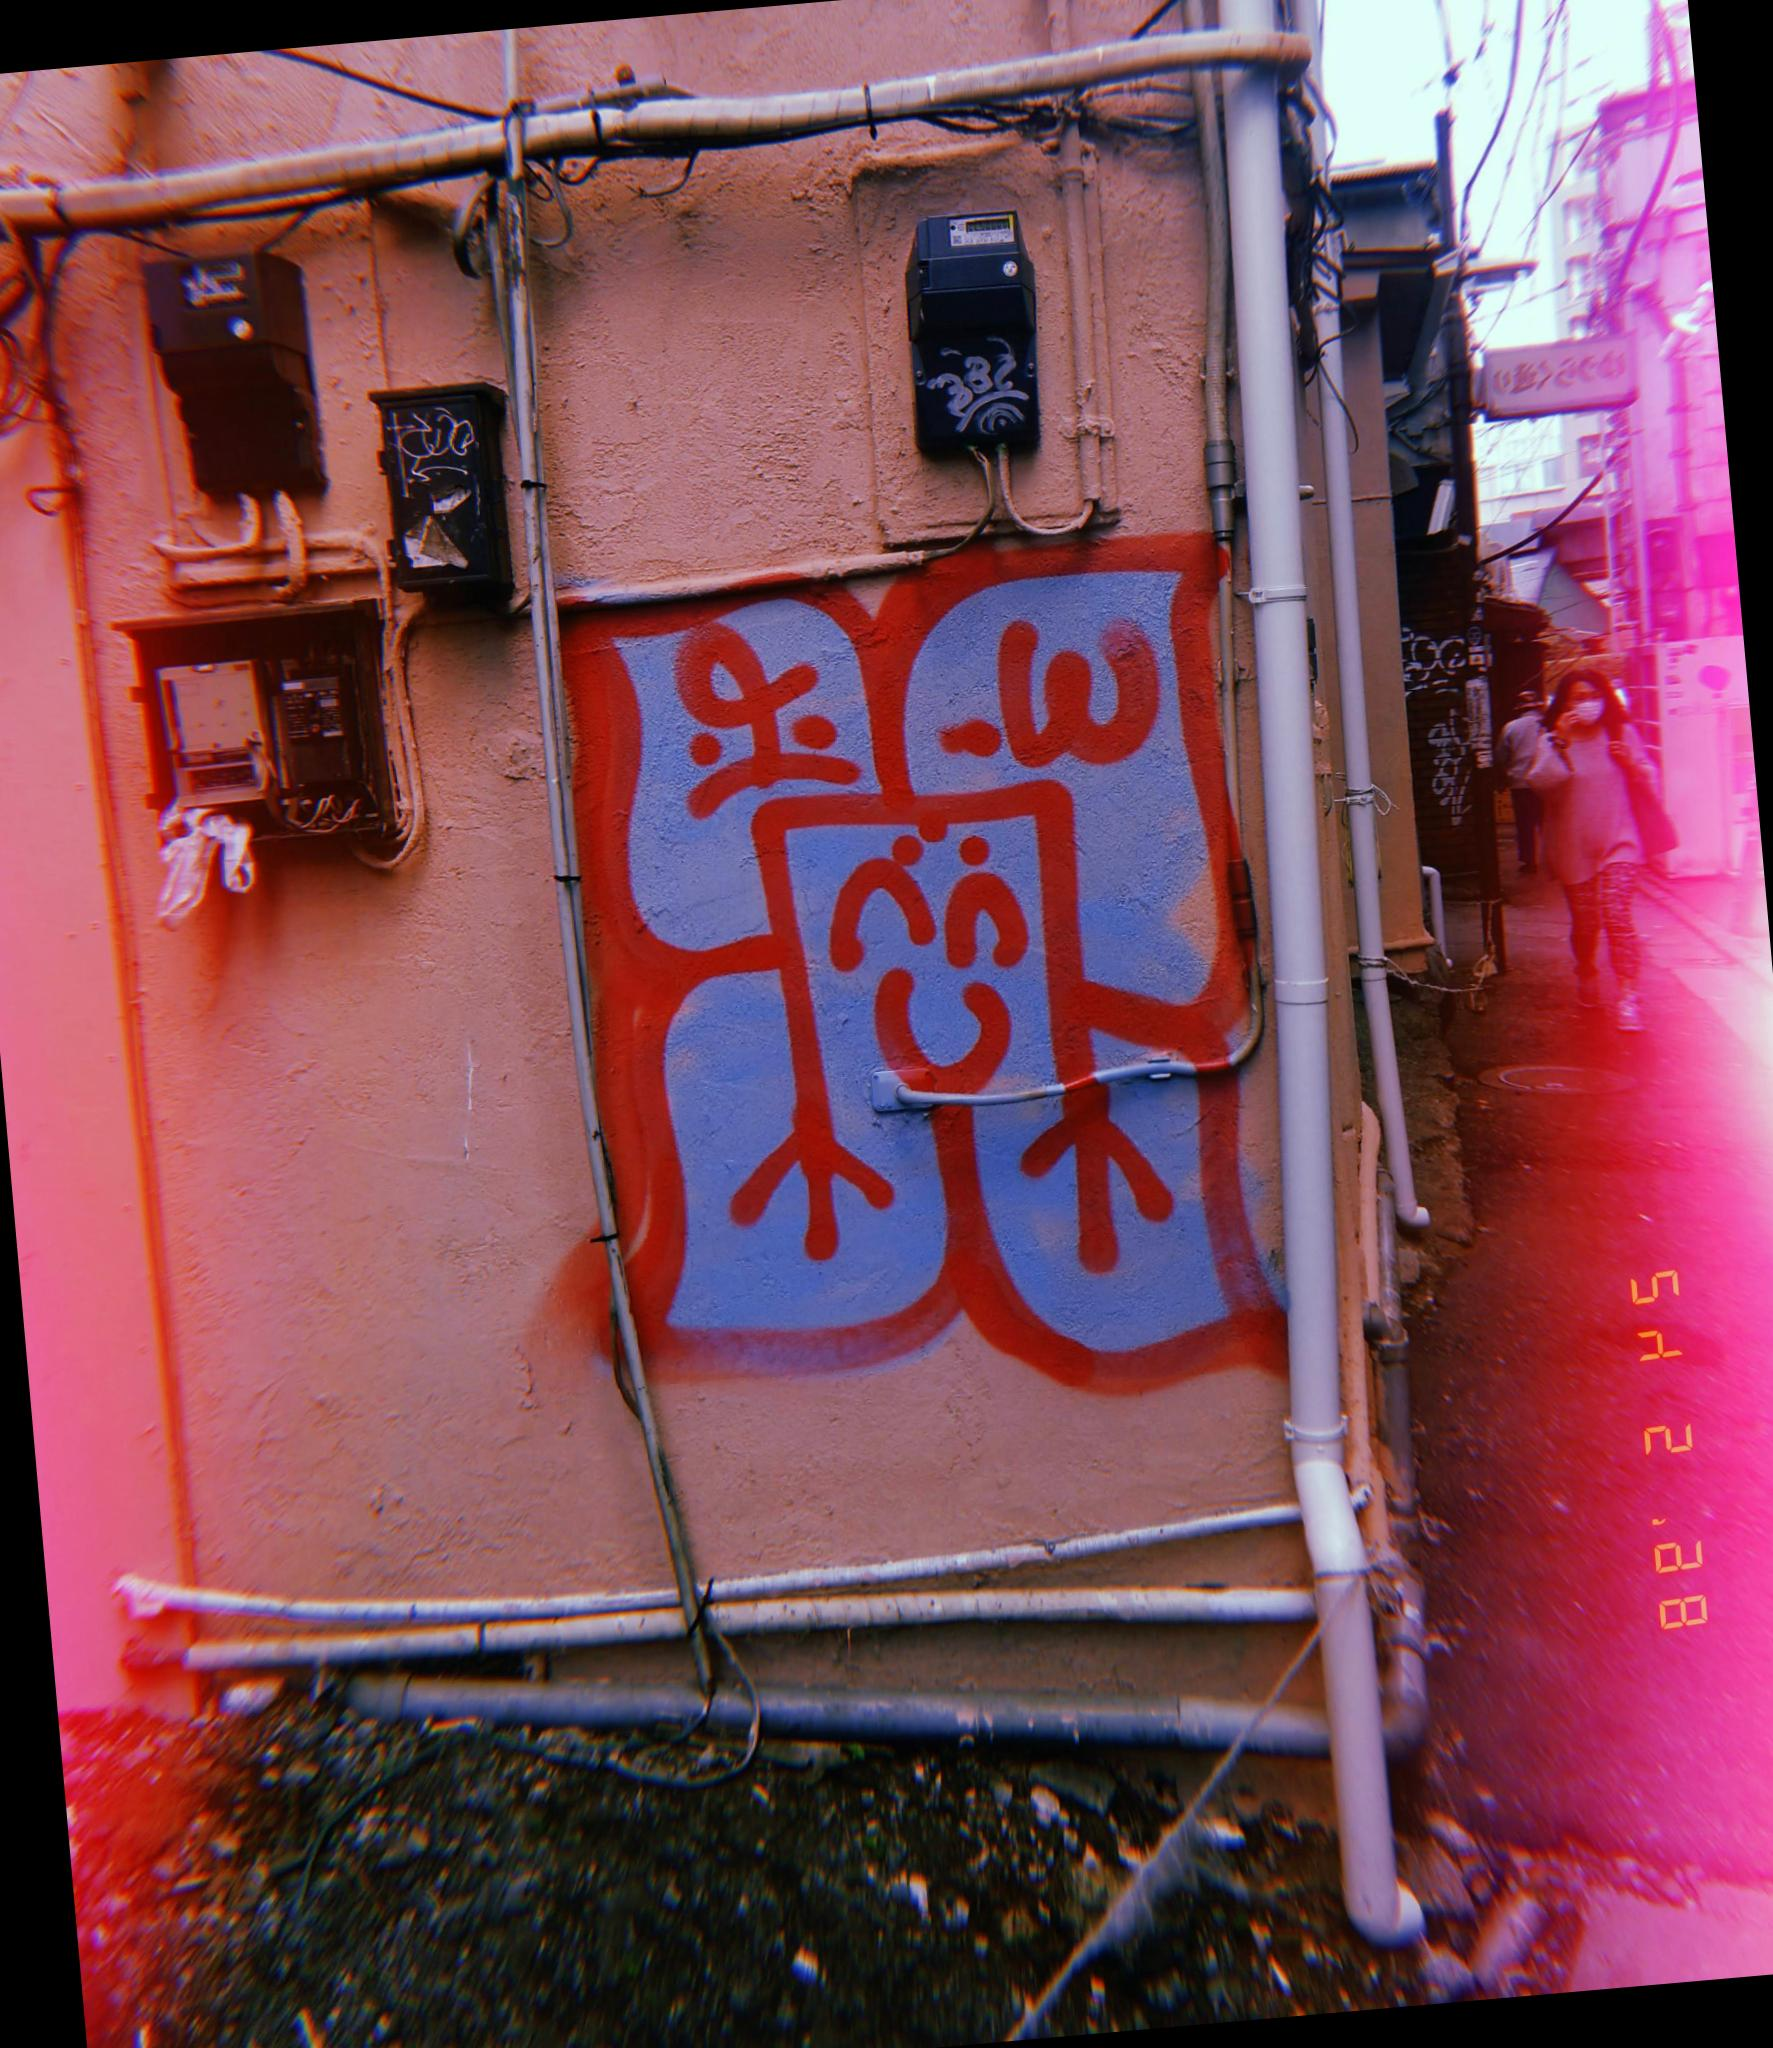graffiti: (500, 503, 1317, 1411)
